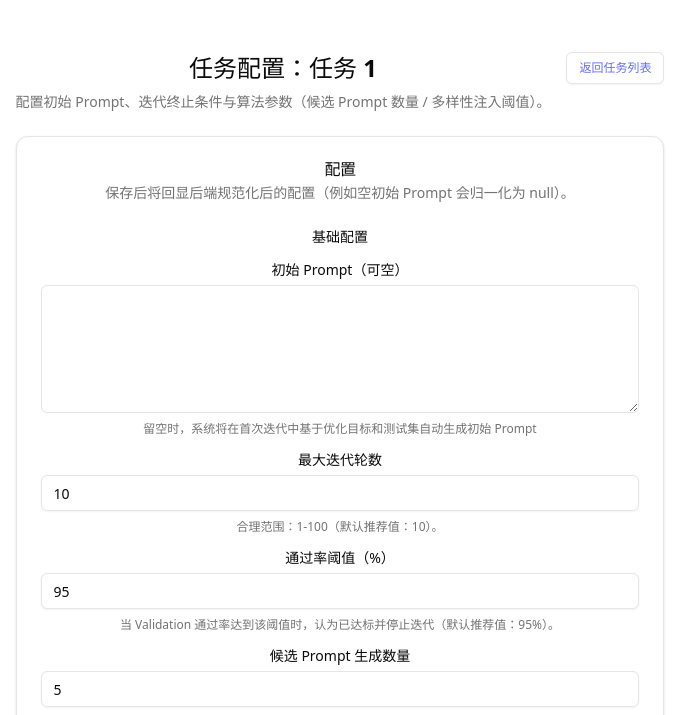
it: OptimizationTaskConfigView › 候选 Prompt 生成数量为小数时应本地拦截且不发送请求
expect the heading "任务配置：任务 1" is shown: met, box top-left (189, 51), bottom-right (377, 84)
Replace the text in the number field labelled "候选 Prompt 生成数量" with "4.5". click: (340,689)
box: top-left (41, 671), bottom-right (639, 707)
(page scrolled)
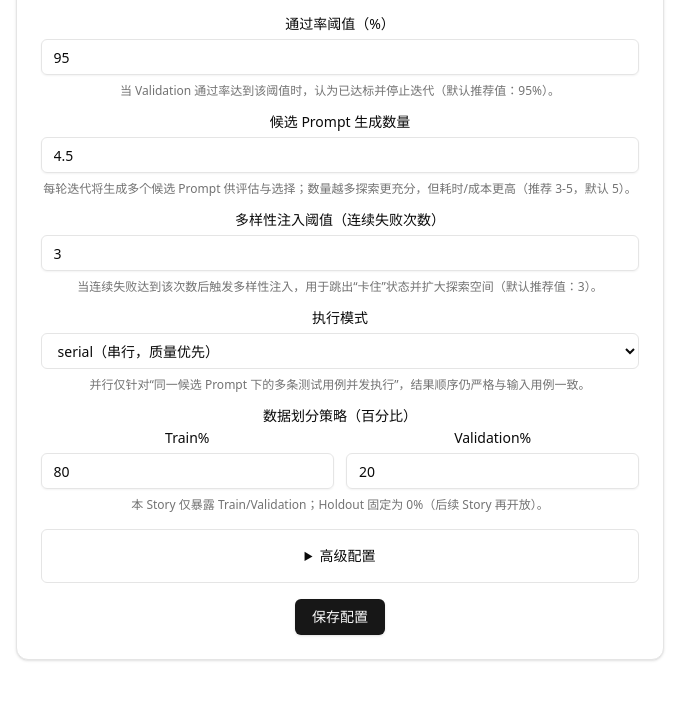
Click the button "保存配置". click: (340,617)
box: top-left (295, 599), bottom-right (385, 635)
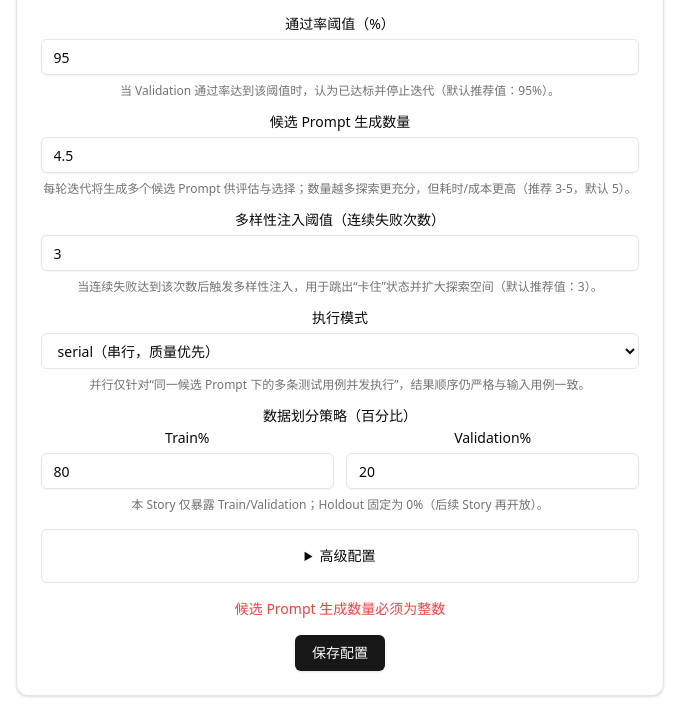
expect the text "候选 Prompt 生成数量必须为整数" is shown: met, box top-left (235, 599), bottom-right (445, 618)
